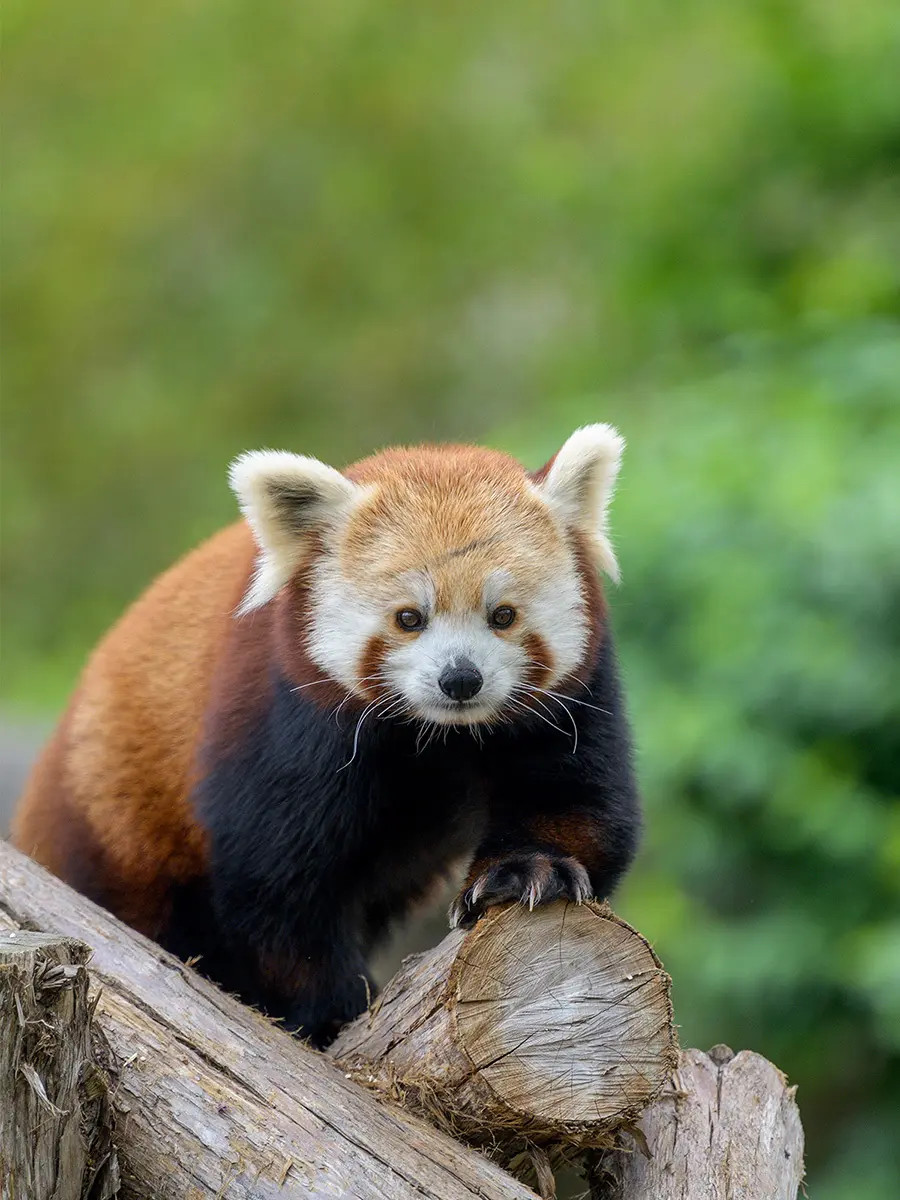Red panda: (231, 408, 646, 737)
